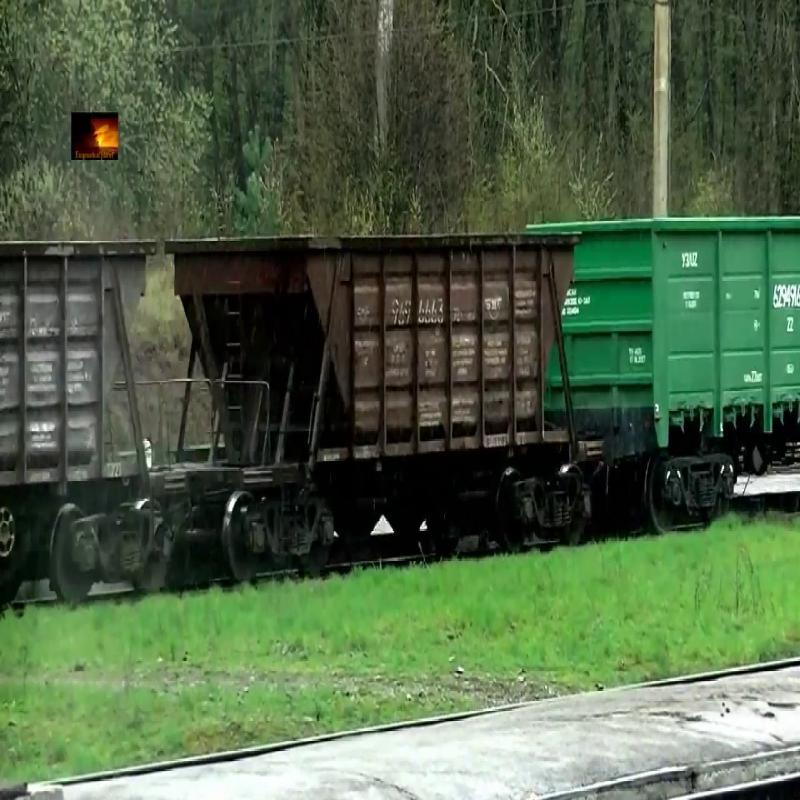train: (161, 230, 583, 474), (546, 212, 800, 450), (1, 236, 161, 486)
